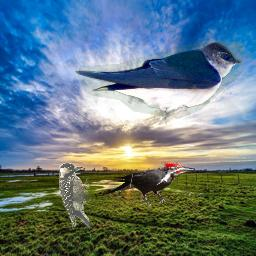Swallow: (75, 42, 243, 125)
Woodpecker: (102, 162, 196, 207), (59, 163, 93, 229)
